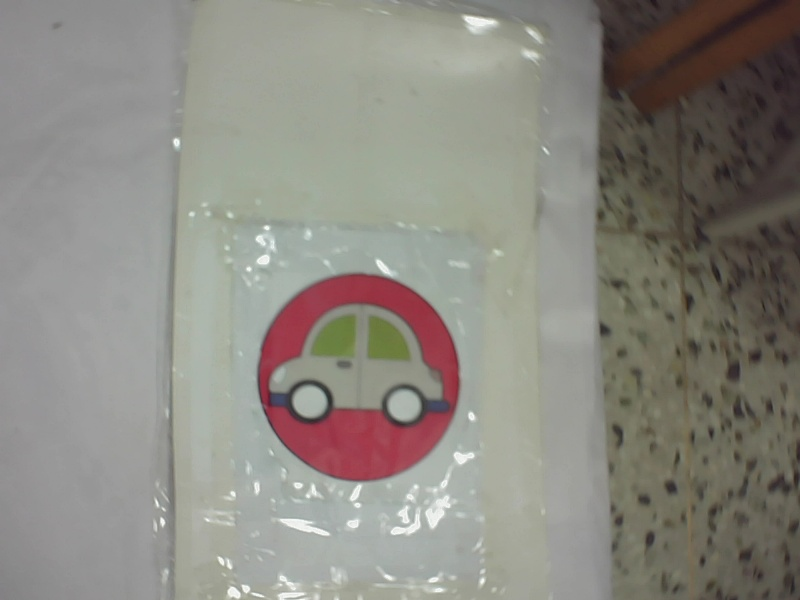areaC: (254, 265, 462, 486)
